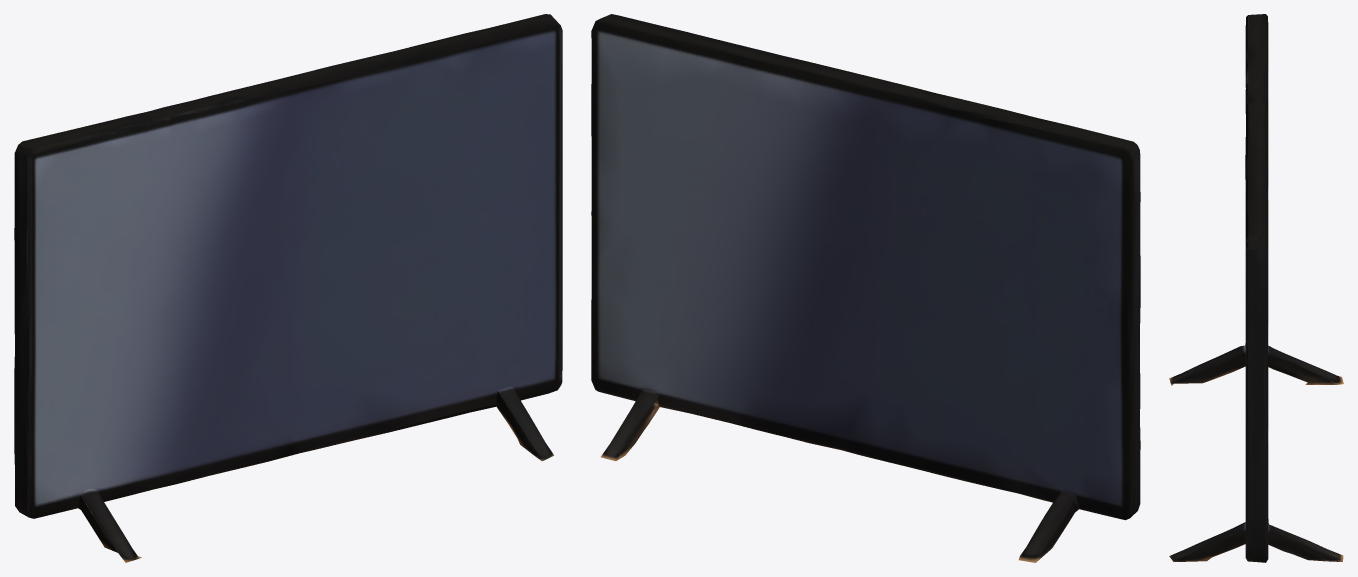
File: TvStand_Tv.glb
3 renders of one model, left to right at view 1: azimuth 30°, elevation 25°; view 2: azimuth 150°, elevation 25°; view 3: azimuth 270°, elevation 25°, orthographic. The views are drawn at different scales.
Parts seen in each view (by area): view 1: TvStand_Tv; view 2: TvStand_Tv; view 3: TvStand_Tv.
Part boxes in pixels (left/top/right/bottom): TvStand_Tv: left=14, top=14, right=562, bottom=562; TvStand_Tv: left=591, top=14, right=1140, bottom=562; TvStand_Tv: left=1169, top=14, right=1343, bottom=562.
Size of the model in its own units: 1.04 by 0.7211 by 0.3322.
1 material, 1 textured.
